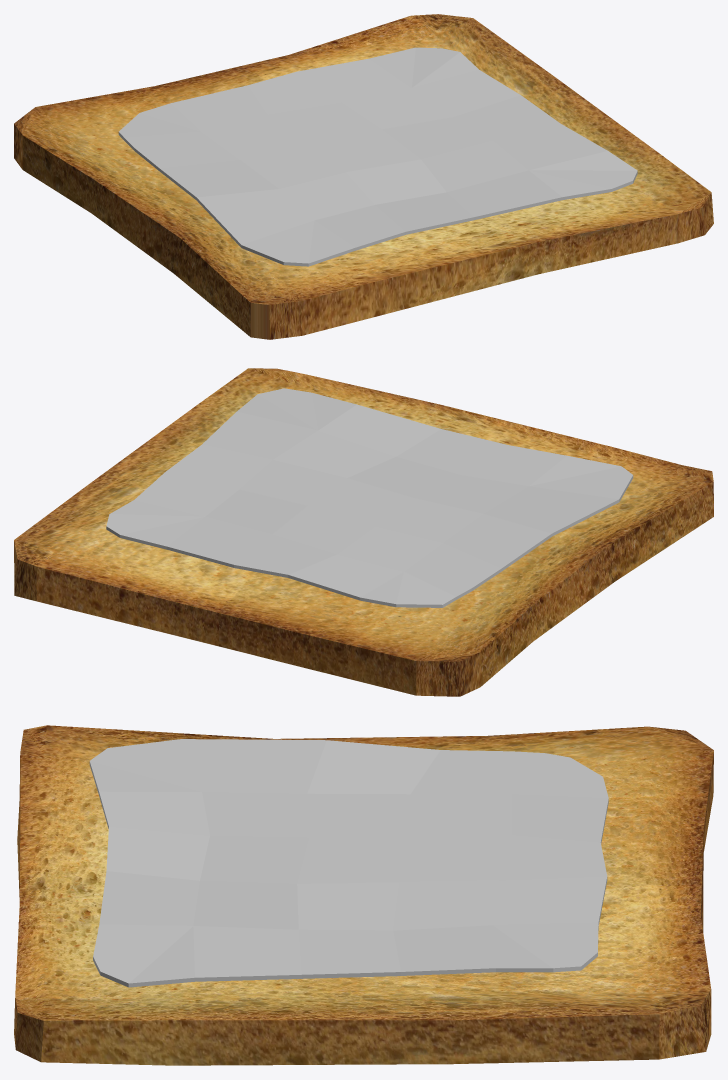
File: Бред.fbx
3 views of the same model, one above another, from view 1: azimuth 30°, elevation 25°; view 2: azimuth 150°, elevation 25°; view 3: azimuth 270°, elevation 25° (orthographic). The views are drawn at different scales.
Parts seen in each view (by area): view 1: Plane.010, Plane.011; view 2: Plane.010, Plane.011; view 3: Plane.011, Plane.010.
Part boxes in pixels (x1=…): Plane.010: x1=14, y1=14, x2=713, y2=339; Plane.011: x1=118, y1=47, x2=637, y2=266; Plane.010: x1=14, y1=368, x2=713, y2=696; Plane.011: x1=106, y1=388, x2=633, y2=607; Plane.011: x1=89, y1=739, x2=608, y2=987; Plane.010: x1=14, y1=725, x2=713, y2=1065.
Size of the model in its own units: 201 by 22.17 by 201.
